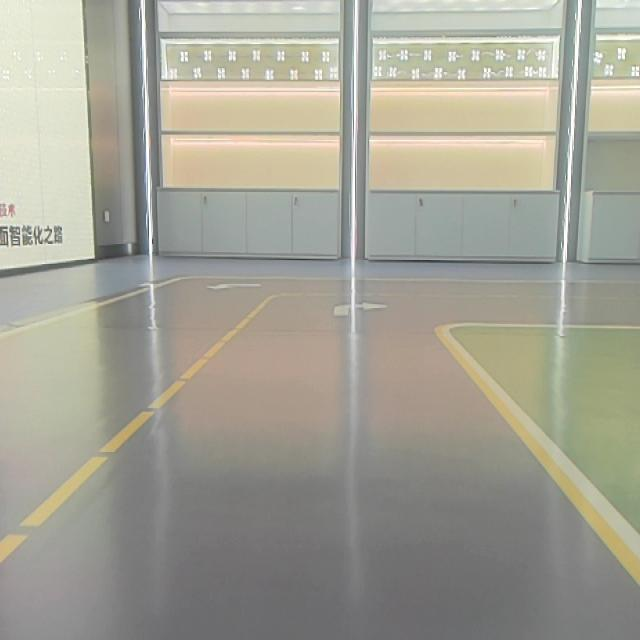left_lane: (2, 296, 276, 568)
right_lane: (444, 338, 640, 584), (5, 274, 181, 338)
